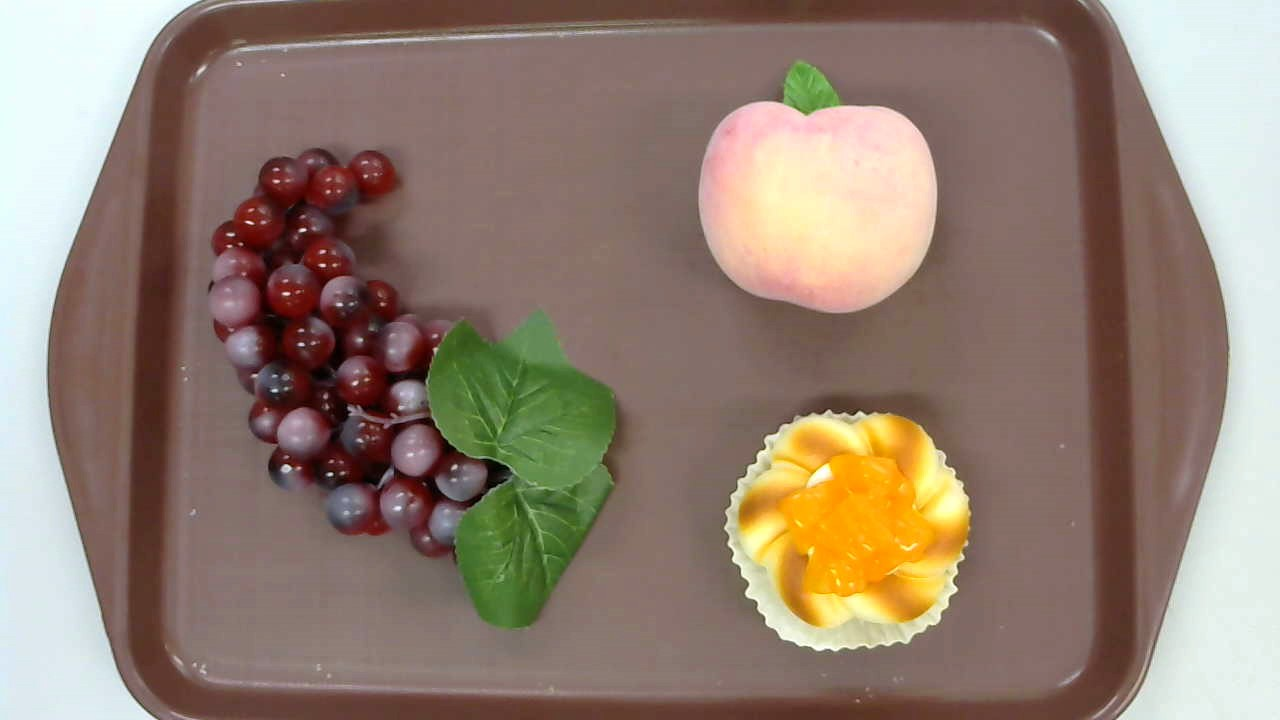grape: (207, 148, 622, 630)
mango tart: (724, 409, 971, 649)
peach: (696, 59, 938, 316)
